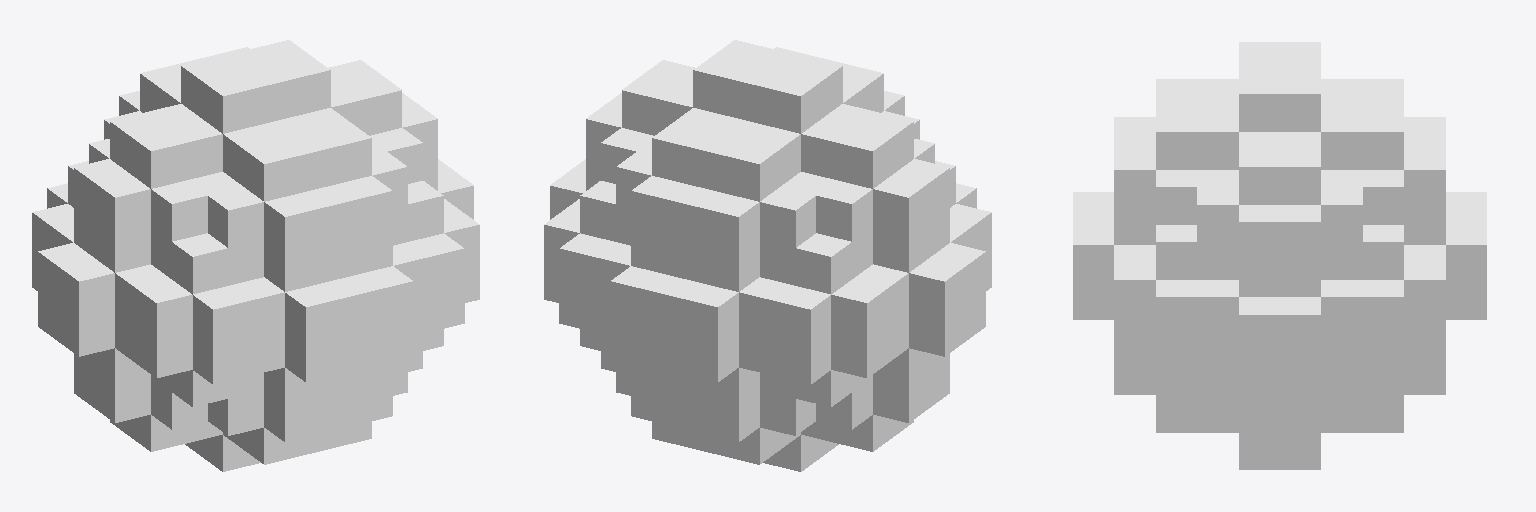
Rendered from SnowBullet1.obj.
The picture shows the model from 3 angles: view 1: azimuth 30°, elevation 25°; view 2: azimuth 150°, elevation 25°; view 3: azimuth 270°, elevation 25°; orthographic projection.
Visible parts, largest first — view 1: object 1; view 2: object 1; view 3: object 1.
Part boxes in pixels (x1,y1,x2,y2): object 1: (32,40,479,471); object 1: (544,40,991,471); object 1: (1073,42,1486,469).
Bounding box in the file's own units: 1.1 × 1 × 1.